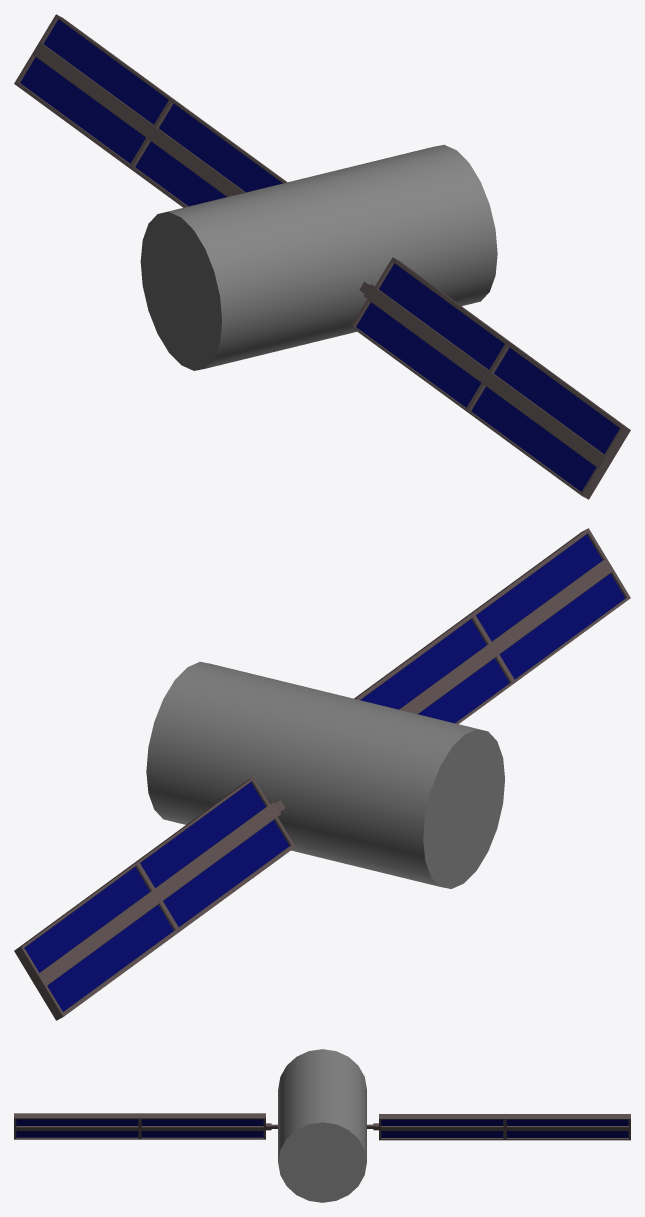
Rendered from space_station_v01.obj.
3 views of the same model, one above another, from view 1: azimuth 30°, elevation 25°; view 2: azimuth 150°, elevation 25°; view 3: azimuth 270°, elevation 25° (orthographic). The views are drawn at different scales.
Visible parts, largest first — view 1: pCylinder1, polySurface3 group2, group2 polySurface4; view 2: pCylinder1, group2 polySurface4, polySurface3 group2; view 3: pCylinder1, polySurface3 group2, group2 polySurface4.
Part boxes in pixels (bbox=[...]): pCylinder1: bbox=[140, 144, 497, 370]; polySurface3 group2: bbox=[350, 257, 630, 499]; group2 polySurface4: bbox=[14, 14, 286, 207]; pCylinder1: bbox=[146, 662, 504, 888]; group2 polySurface4: bbox=[14, 777, 295, 1020]; polySurface3 group2: bbox=[354, 528, 630, 723]; pCylinder1: bbox=[278, 1049, 366, 1202]; polySurface3 group2: bbox=[14, 1113, 278, 1139]; group2 polySurface4: bbox=[366, 1114, 630, 1140].
Bounding box in the file's own units: 3.9 × 2 × 13.89.
